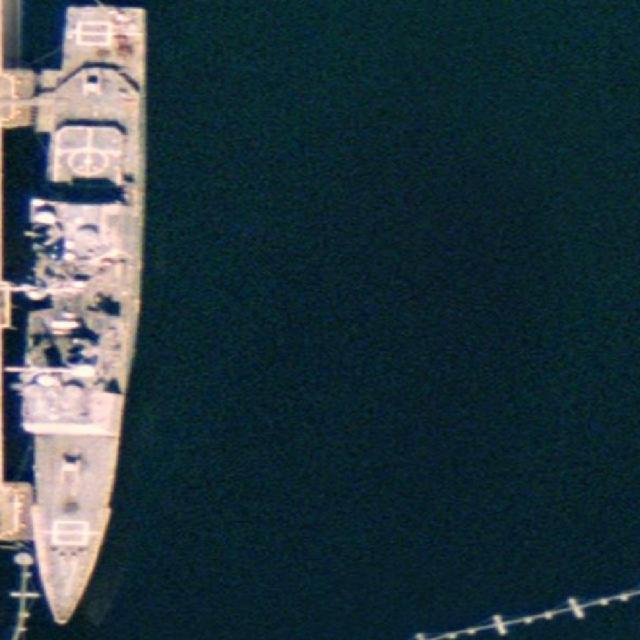Cruiser: (24, 4, 155, 625)
